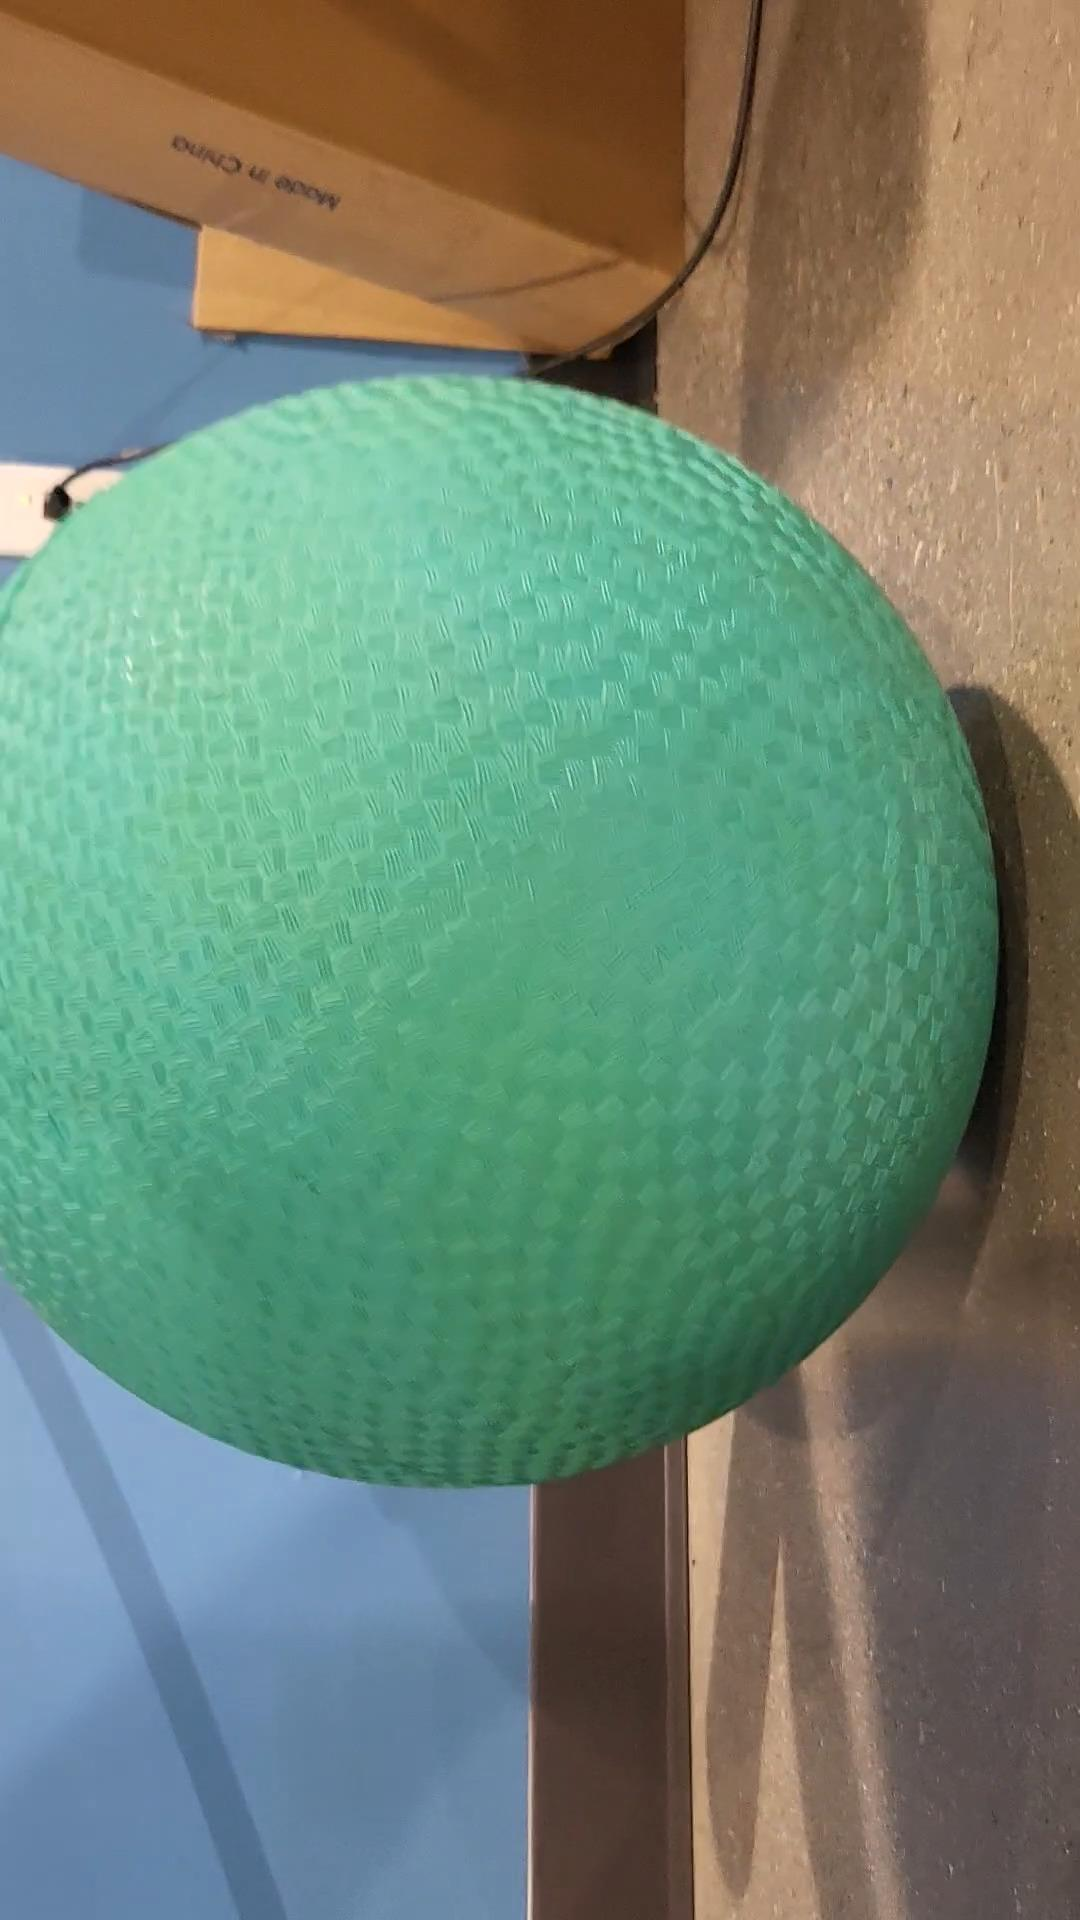algae: (0, 380, 982, 1490)
